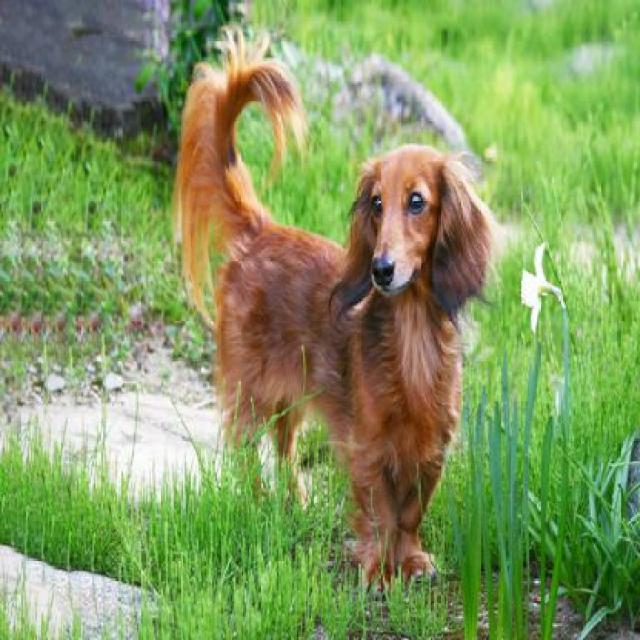Dog: (172, 29, 498, 588)
